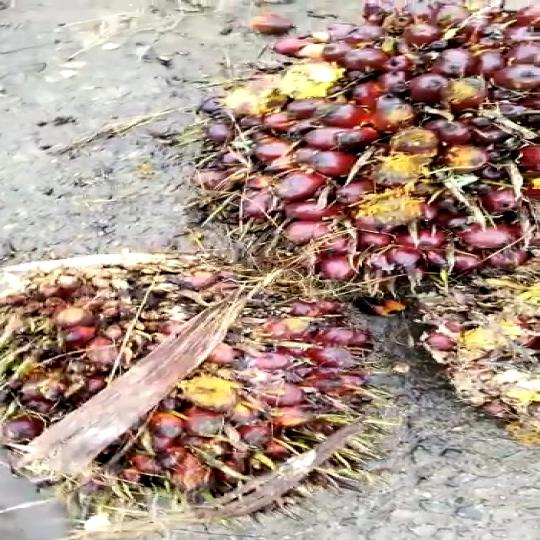masak: (0, 262, 425, 530), (173, 0, 540, 307)
